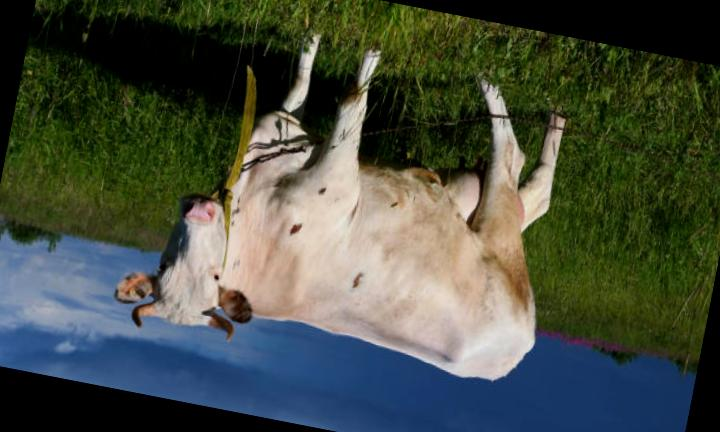Charolais: (114, 38, 560, 380)
